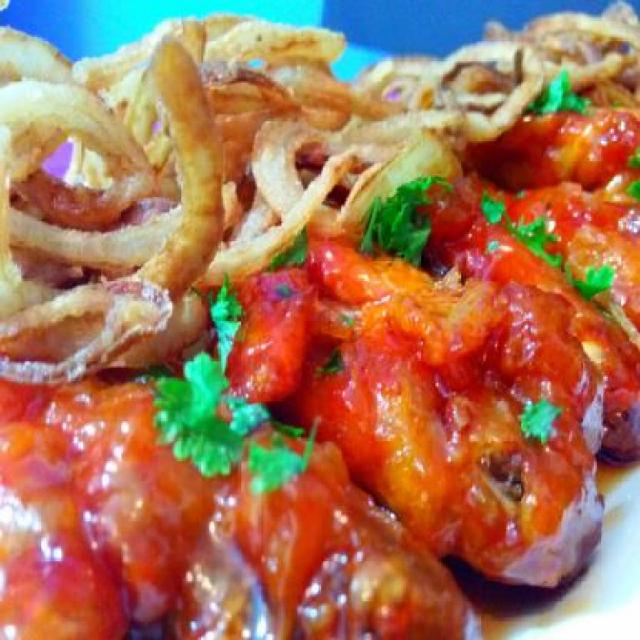chicken wings: (1, 91, 640, 639)
onion rings: (1, 11, 638, 369)
